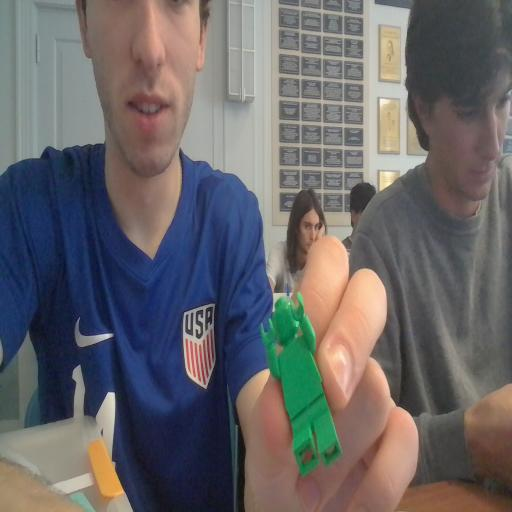green LEGO minifig: (258, 288, 342, 490)
